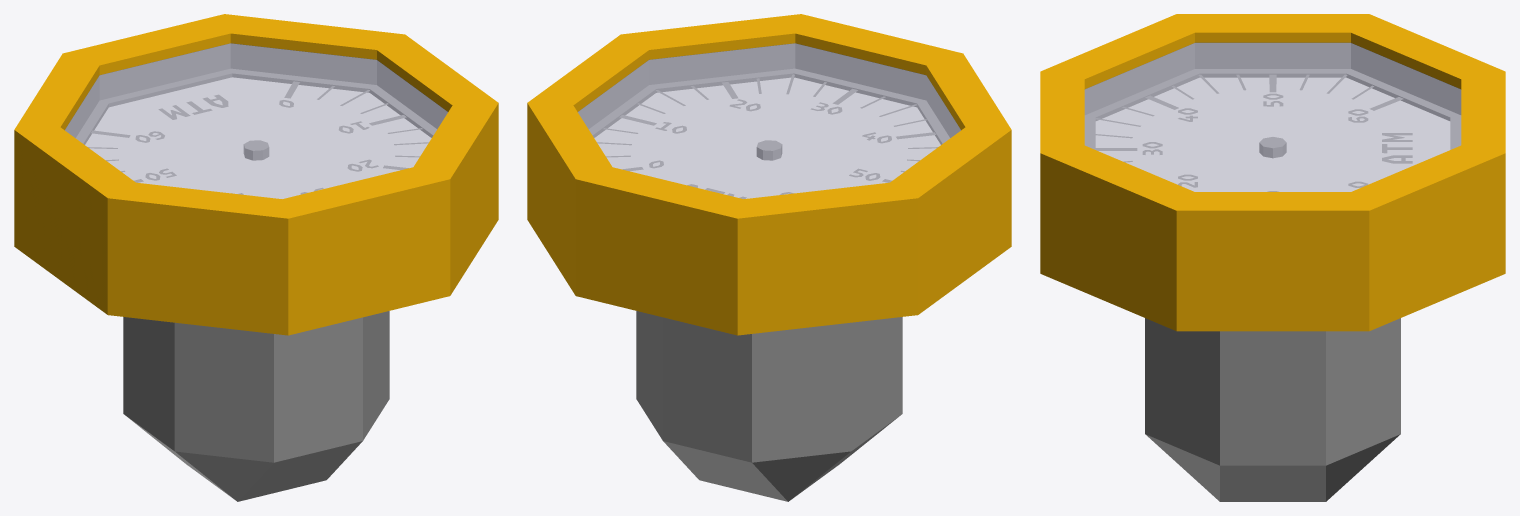
Rendered from dpe_pressure_gauge.dae.
3 renders of one model, left to right at view 1: azimuth 30°, elevation 25°; view 2: azimuth 150°, elevation 25°; view 3: azimuth 270°, elevation 25°, orthographic. The views are drawn at different scales.
Parts seen in each view (by area): view 1: pressure_gauge; view 2: pressure_gauge; view 3: pressure_gauge.
Boxes of the visible parts, x1=… form: pressure_gauge: x1=14, y1=14, x2=498, y2=501; pressure_gauge: x1=527, y1=14, x2=1011, y2=501; pressure_gauge: x1=1040, y1=14, x2=1505, y2=501.
Bounding box in the file's own units: 0.21 × 0.21 × 0.1827.
